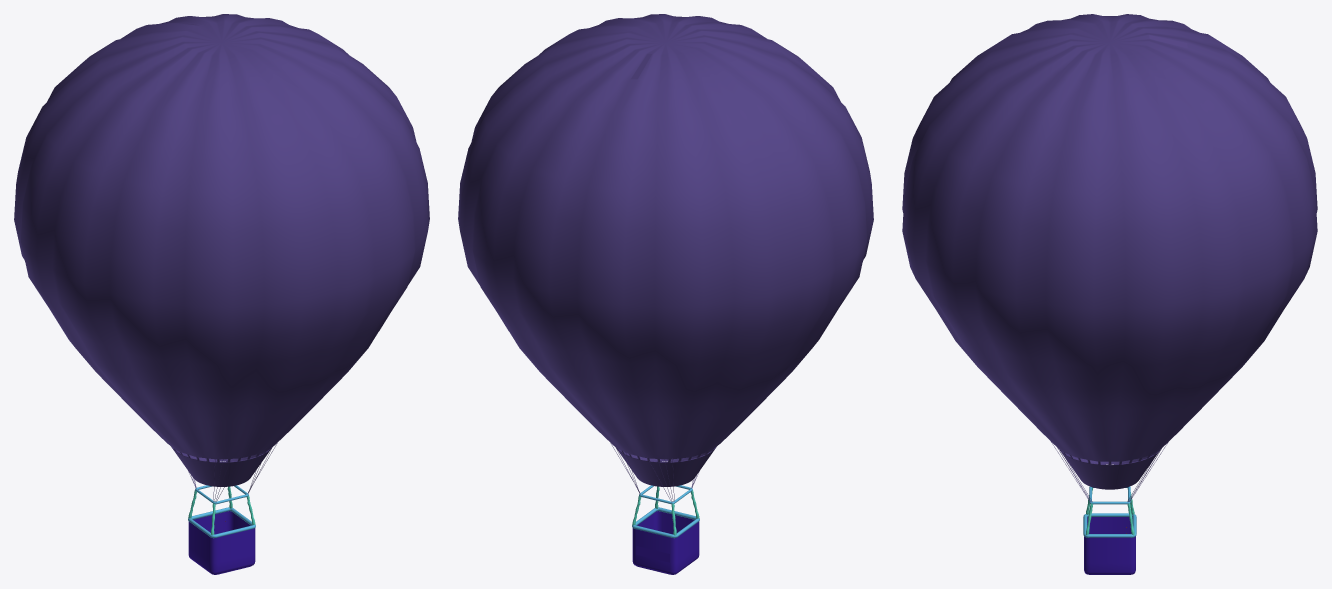
File: Jugador1.FBX
The picture shows the model from 3 angles, left to right: view 1: azimuth 30°, elevation 25°; view 2: azimuth 150°, elevation 25°; view 3: azimuth 270°, elevation 25°; orthographic projection.
Visible parts, largest first — view 1: Jugador1_Object009; view 2: Jugador1_Object009; view 3: Jugador1_Object009.
Part boxes in pixels (box(x1,y1,x2,y2)): Jugador1_Object009: box(14, 14, 429, 574); Jugador1_Object009: box(458, 14, 873, 574); Jugador1_Object009: box(902, 14, 1317, 574).
Bounding box in the file's own units: 9.56 × 13.4 × 9.56.
